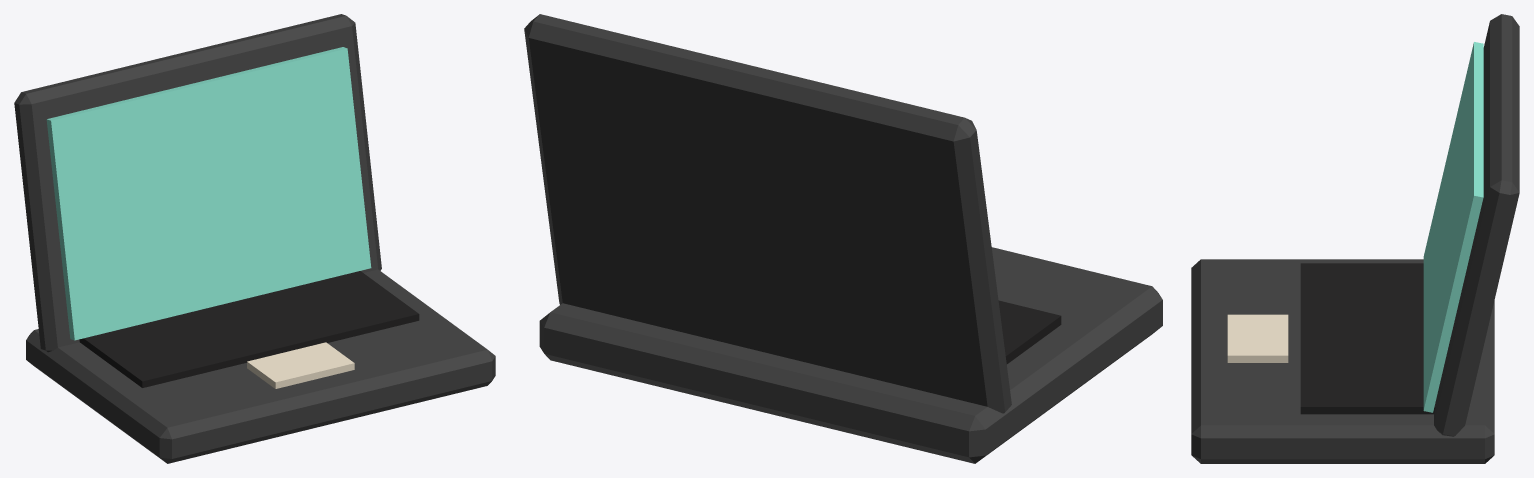
The picture shows the model from 3 angles, left to right: view 1: azimuth 30°, elevation 25°; view 2: azimuth 150°, elevation 25°; view 3: azimuth 270°, elevation 25°; orthographic projection. The views are drawn at different scales.
Visible parts, largest first — view 1: Display face, Keyboard base, Hinged display, Key field, Touch pad; view 2: Hinged display, Keyboard base, Key field; view 3: Keyboard base, Key field, Hinged display, Display face, Touch pad.
Boxes of the visible parts, x1,y1,x2,y2 form: Display face: (46,47,371,340); Keyboard base: (26,269,495,463); Hinged display: (14,14,381,352); Key field: (79,271,419,387); Touch pad: (247,342,354,388); Hinged display: (524,14,1011,413); Keyboard base: (539,247,1162,463); Key field: (998,300,1061,364); Keyboard base: (1191,259,1494,463); Key field: (1300,263,1435,414); Hinged display: (1434,14,1519,436); Display face: (1423,42,1483,412); Touch pad: (1227,314,1288,362).
Size of the model in its own units: 0.374 by 0.2836 by 0.2976.
Materials: 1 (1 with a texture image).
